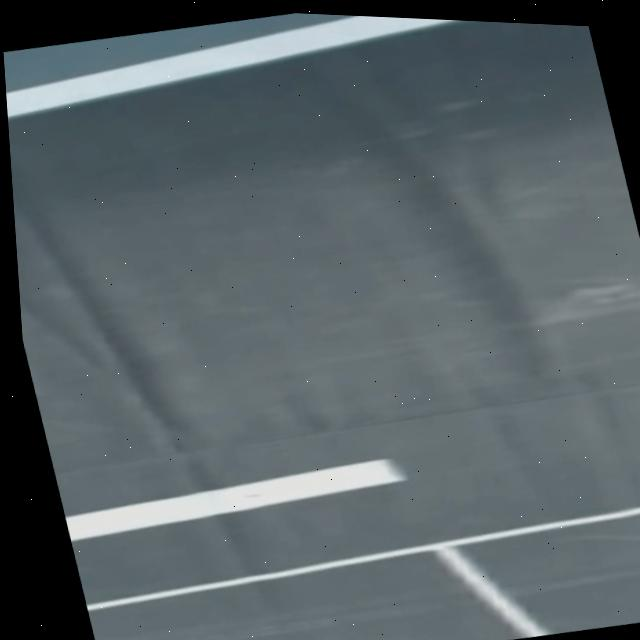center: (64, 458, 403, 540)
left: (6, 16, 453, 117)
